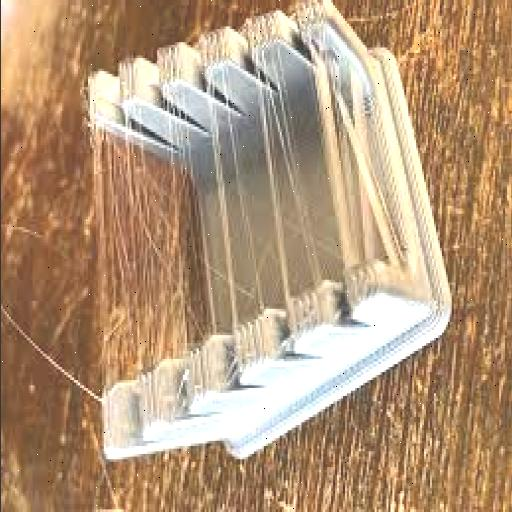stringing: (90, 100, 158, 412), (176, 61, 242, 365), (258, 44, 312, 312)
